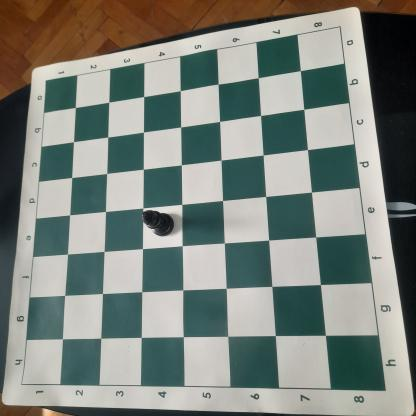black-bishop: (140, 208, 176, 238)
